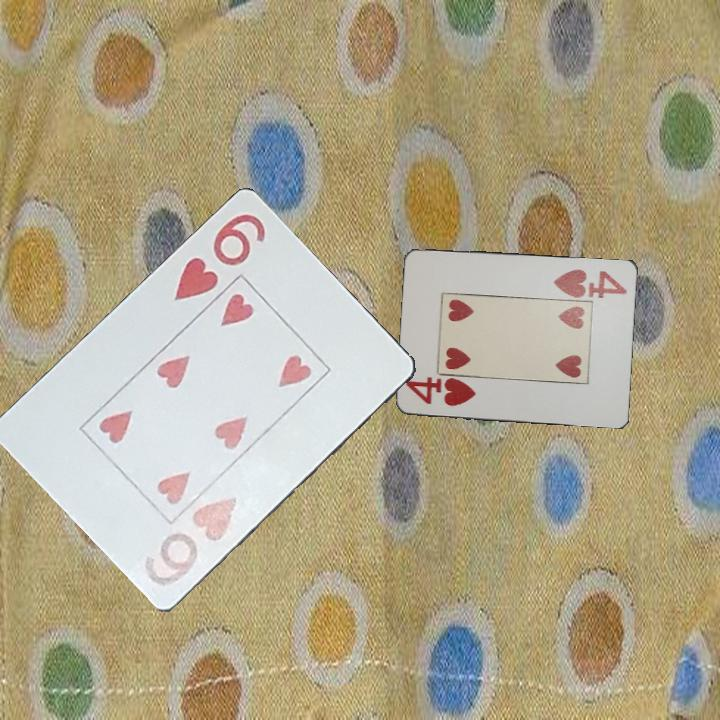4h: (550, 265, 630, 300), (402, 374, 479, 409)
6h: (138, 493, 245, 595), (170, 210, 269, 305)
